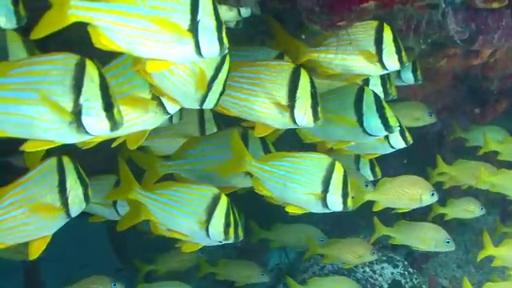Fish: (30, 0, 228, 63), (108, 159, 243, 251), (0, 52, 123, 151), (78, 55, 180, 149), (0, 156, 90, 259), (131, 128, 275, 192), (269, 18, 408, 78), (216, 60, 320, 136), (244, 152, 352, 215), (130, 128, 246, 185), (297, 84, 399, 143), (136, 54, 230, 108), (141, 109, 222, 155), (318, 126, 412, 159), (371, 217, 455, 251), (364, 175, 438, 211), (429, 156, 497, 189), (249, 222, 327, 250), (304, 238, 377, 267), (84, 175, 129, 222), (134, 249, 202, 280), (199, 260, 270, 286), (159, 109, 224, 136), (174, 171, 251, 193), (326, 150, 381, 180), (450, 124, 509, 146), (429, 197, 485, 220), (477, 230, 511, 267), (388, 101, 436, 127), (0, 30, 38, 61), (346, 168, 375, 208), (238, 128, 275, 158), (361, 74, 397, 101), (478, 133, 511, 161), (229, 46, 290, 61), (217, 4, 251, 28), (286, 276, 360, 287), (0, 0, 27, 29), (392, 60, 423, 85), (313, 75, 353, 93), (65, 276, 124, 287), (0, 243, 28, 261), (137, 281, 191, 287), (495, 220, 511, 236), (482, 280, 511, 287)
